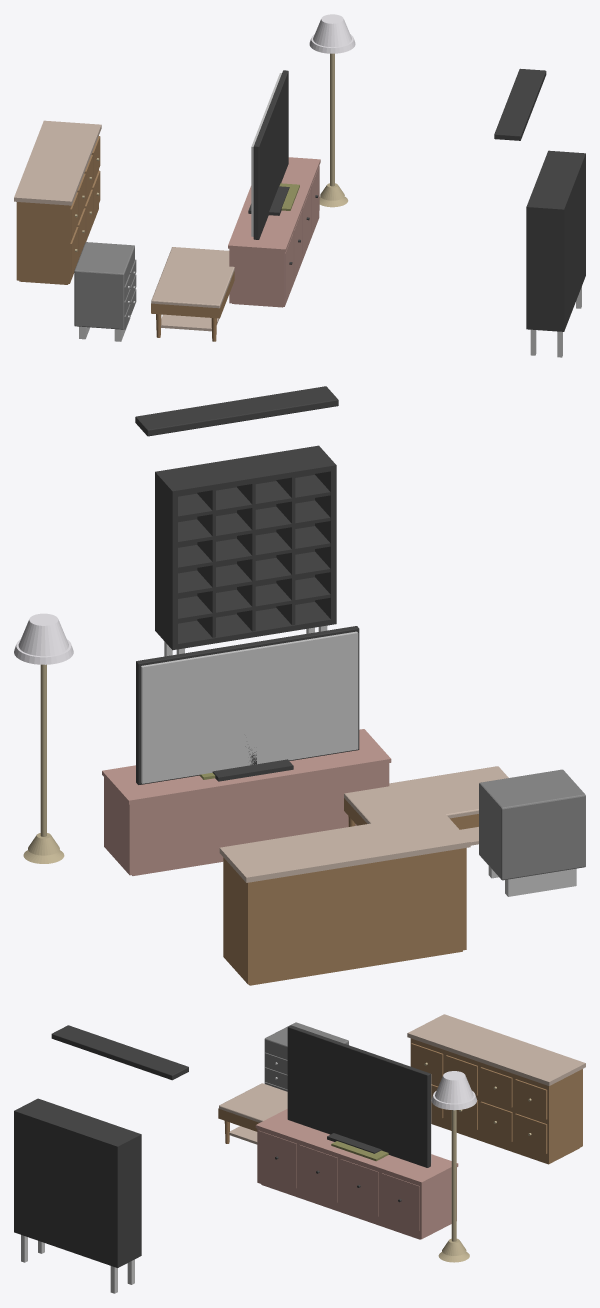
Rendered from agent_scene.glb.
3 views of the same model, one above another, from view 1: azimuth 30°, elevation 25°; view 2: azimuth 150°, elevation 25°; view 3: azimuth 270°, elevation 25° (orthographic). The views are drawn at different scales.
Visible parts, largest first — view 1: dresser_top, dresser_body, gc_body, bs_sideR, ct_top, tv_panel, console_top, console_body, bs_back, bs_top, fs_board, lamp_shade (+5 smaller); view 2: tv_back, dresser_body, console_body, gc_body, dresser_top, ct_top, console_top, bs_top, fs_board, bs_sideL, bs_bot, bs_h5 (+14 smaller); view 3: tv_panel, bs_back, dresser_body, dresser_top, console_body, bs_sideL, console_top, bs_top, fs_board, console_door1, console_door3, console_door0 (+16 smaller).
Part boxes in pixels (x1,y1,x2,y2): dresser_top: [14, 120, 101, 205]; dresser_body: [16, 154, 98, 283]; gc_body: [74, 242, 134, 329]; bs_sideR: [526, 205, 564, 330]; ct_top: [151, 247, 234, 308]; tv_panel: [253, 70, 288, 239]; console_top: [228, 157, 320, 252]; console_body: [229, 212, 319, 306]; bs_back: [561, 153, 585, 331]; bs_top: [526, 150, 584, 213]; fs_board: [494, 68, 546, 140]; lamp_shade: [313, 14, 351, 47]; tv_back: [141, 631, 358, 783]; dresser_body: [223, 848, 466, 984]; console_body: [104, 763, 389, 875]; gc_body: [479, 769, 585, 880]; dresser_top: [219, 812, 470, 882]; ct_top: [344, 766, 508, 823]; console_top: [102, 729, 391, 804]; bs_top: [155, 446, 336, 496]; fs_board: [135, 386, 338, 436]; bs_sideL: [155, 472, 177, 649]; bs_bot: [155, 602, 336, 649]; bs_h5: [178, 475, 330, 519]; tv_panel: [287, 1025, 430, 1167]; bs_back: [14, 1110, 119, 1266]; dresser_body: [410, 1038, 582, 1163]; dresser_top: [407, 1014, 585, 1085]; console_body: [257, 1128, 456, 1239]; bs_sideL: [114, 1133, 141, 1267]; console_top: [255, 1109, 458, 1185]; bs_top: [14, 1098, 141, 1148]; fs_board: [51, 1025, 188, 1080]; console_door1: [299, 1145, 337, 1202]; console_door3: [381, 1173, 419, 1230]; console_door0: [258, 1130, 296, 1188].
Size of the model in its own units: 4.33 by 2.12 by 5.12.
